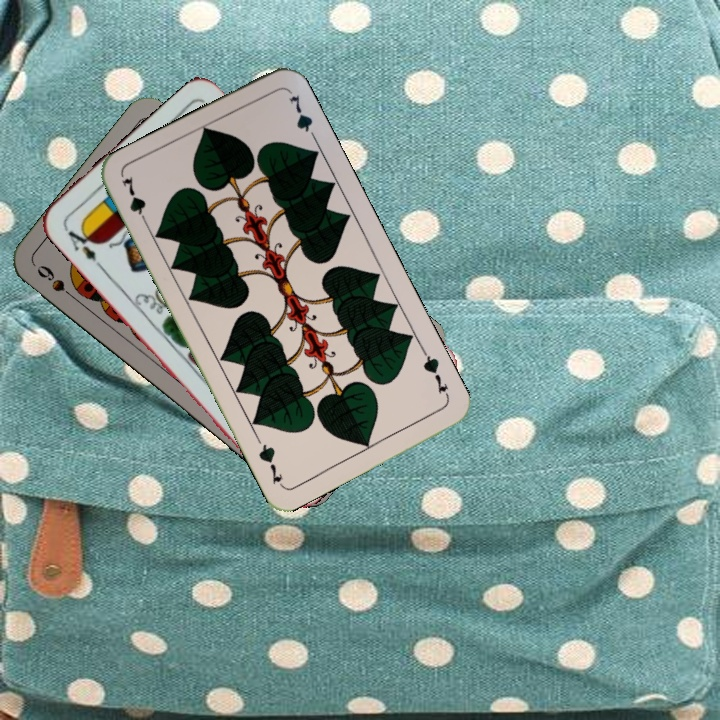EA: (60, 221, 105, 271)
G7: (117, 173, 152, 230), (418, 346, 452, 401)
S9: (32, 260, 81, 305)
